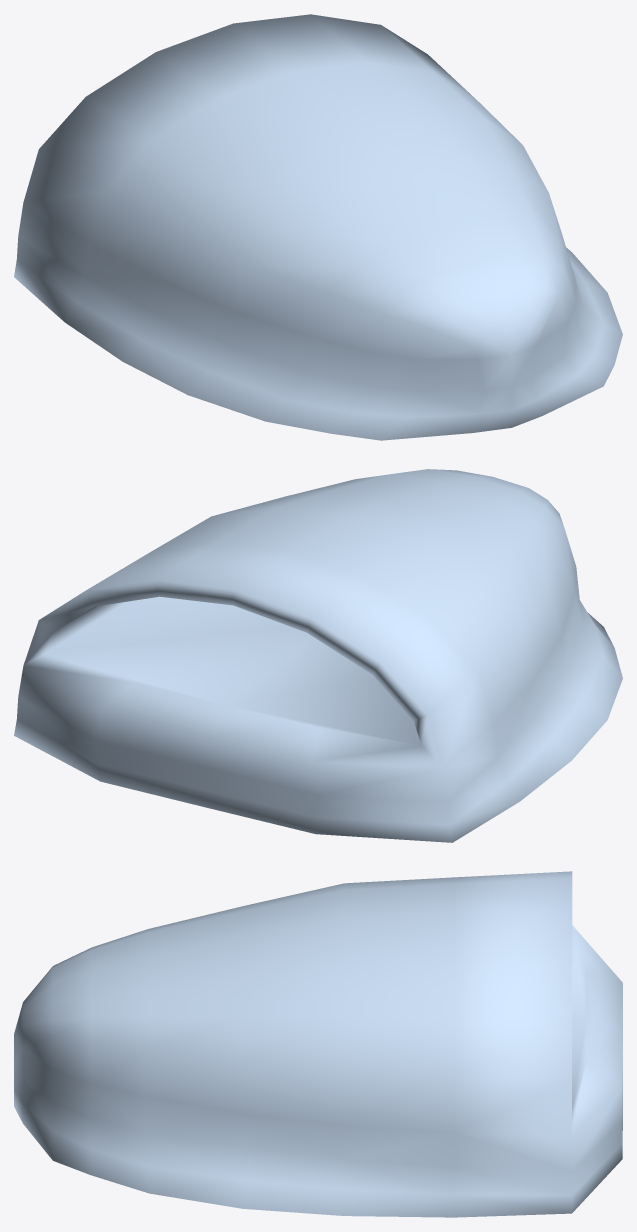
The model's file is sJet.obj.
3 renders of one model, top to bottom at view 1: azimuth 30°, elevation 25°; view 2: azimuth 150°, elevation 25°; view 3: azimuth 270°, elevation 25°, orthographic.
Visible parts, largest first — view 1: sphere3; view 2: sphere3; view 3: sphere3.
Part boxes in pixels (<box>): sphere3: <box>14,14,622,440</box>; sphere3: <box>14,469,622,842</box>; sphere3: <box>14,871,622,1217</box>.
Size of the model in its own units: 0.682 by 0.2865 by 0.7887.
